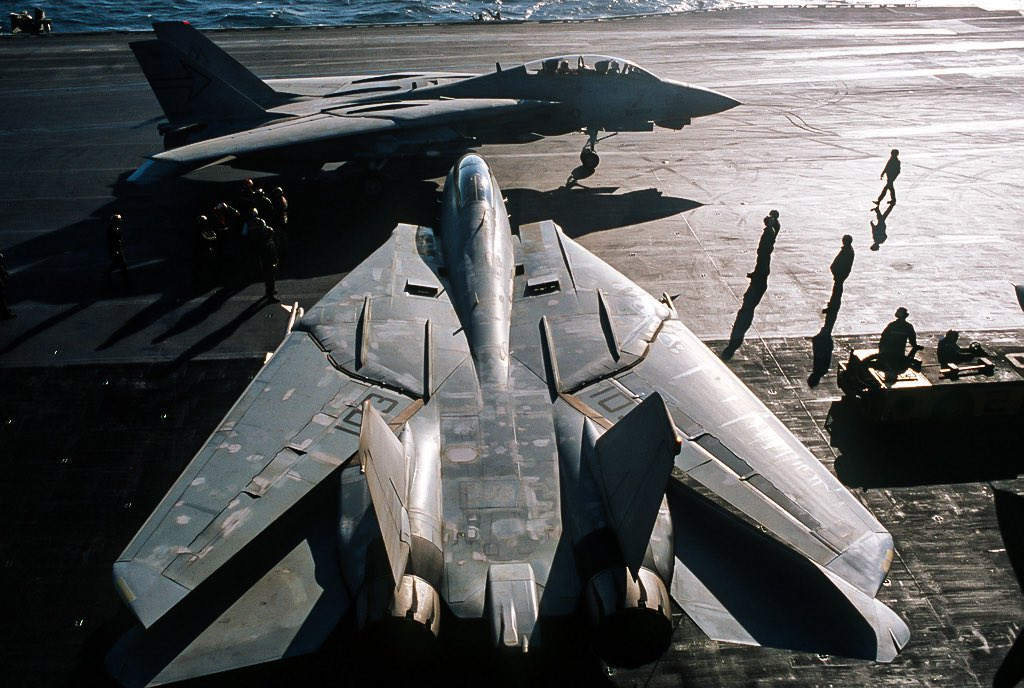F14: (110, 152, 910, 688), (124, 20, 748, 204)
